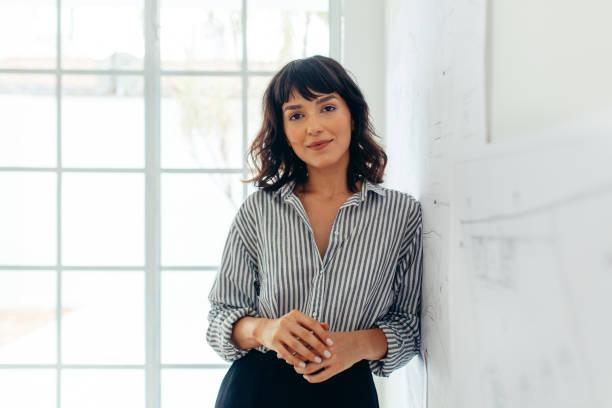no_goggle: (275, 100, 351, 123)
no_helmet: (256, 39, 362, 108)
no_vest: (202, 169, 430, 378)
